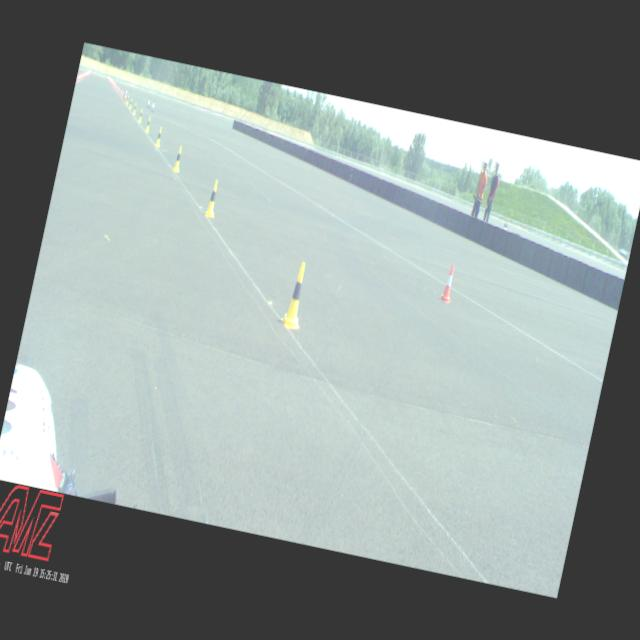large_orange_cone: (123, 88, 128, 100)
orange_cone: (439, 263, 456, 302), (120, 90, 124, 98), (76, 73, 78, 81), (79, 72, 81, 80), (118, 86, 120, 93), (78, 73, 80, 80), (116, 85, 118, 92), (120, 88, 122, 94), (115, 84, 117, 90), (114, 82, 116, 88), (80, 72, 82, 78), (82, 72, 84, 78), (86, 70, 88, 76), (113, 82, 115, 87), (112, 80, 114, 85), (111, 80, 113, 84), (83, 72, 85, 76), (98, 72, 100, 76), (110, 78, 112, 82), (112, 82, 114, 86), (108, 76, 110, 80), (88, 70, 90, 74), (84, 71, 85, 76), (85, 71, 86, 76), (111, 79, 112, 83), (94, 70, 95, 74), (103, 74, 104, 78), (108, 76, 109, 80), (87, 70, 88, 74), (88, 70, 89, 74), (110, 78, 110, 82)
yellow_cone: (282, 261, 310, 327), (204, 179, 220, 217), (172, 146, 184, 172), (154, 127, 163, 147), (144, 116, 152, 132), (137, 108, 143, 122), (132, 102, 137, 114), (126, 100, 132, 108), (128, 98, 132, 108), (125, 95, 128, 104)
